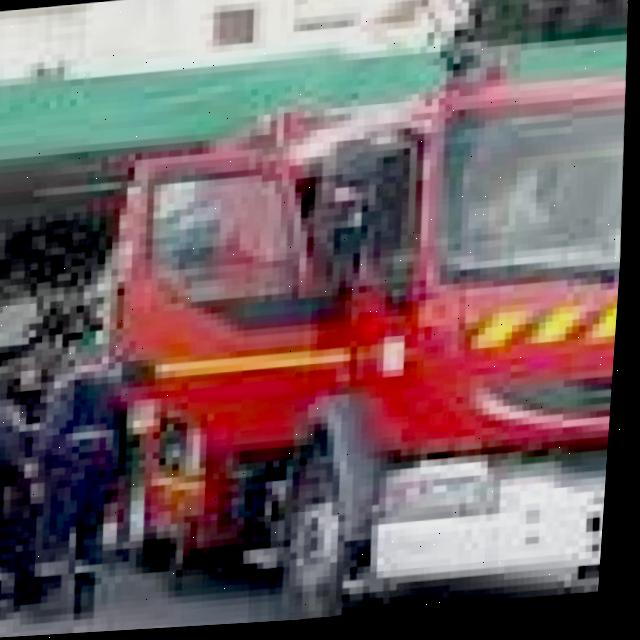emergency: (74, 1, 638, 635)
